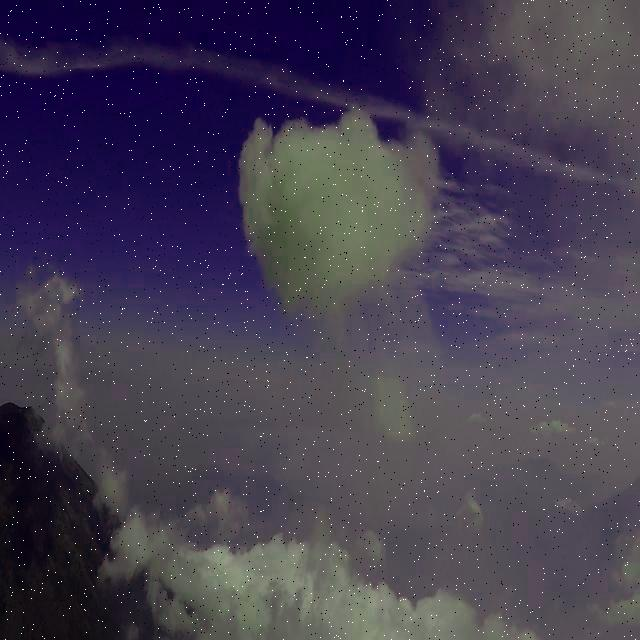Plume: (233, 101, 450, 346)
